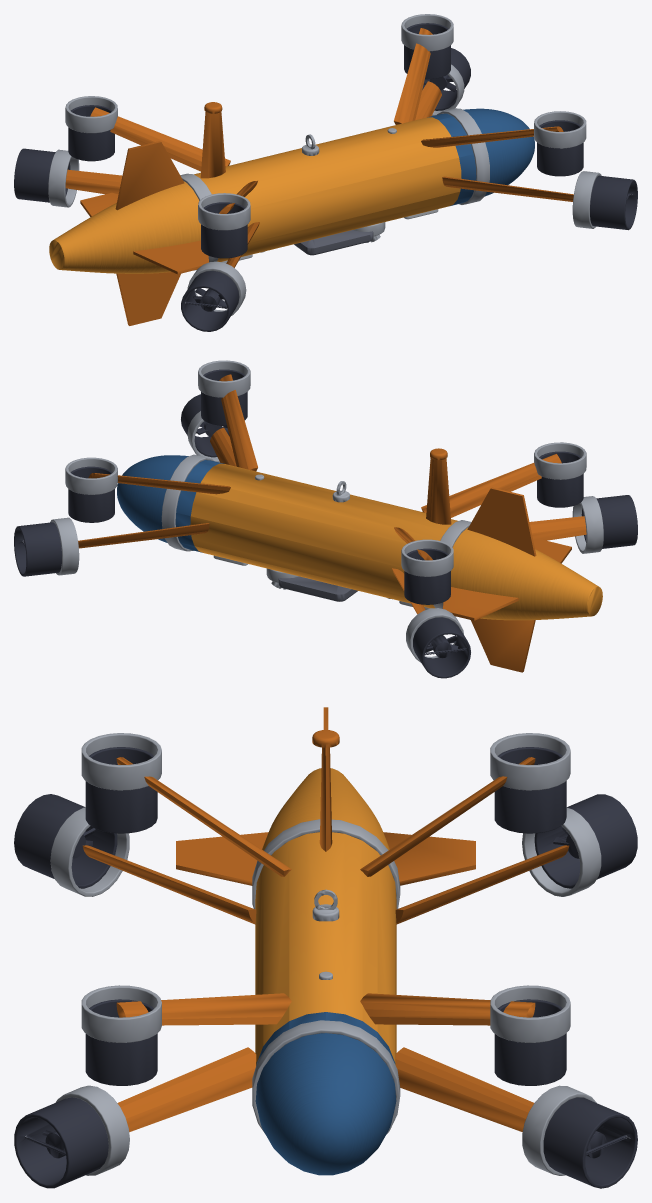
The model's file is isonavi-web.glb.
The picture shows the model from 3 angles, top to bottom: view 1: azimuth 30°, elevation 25°; view 2: azimuth 150°, elevation 25°; view 3: azimuth 270°, elevation 25°; orthographic projection. The views are drawn at different scales.
Visible parts, largest first — view 1: hull, accent, dark, metal, window, weight; view 2: hull, accent, dark, metal, window, weight; view 3: dark, accent, metal, hull, window.
Part boxes in pixels (x1,y1,x2,y2): hull: [49, 117, 461, 273]; accent: [65, 28, 573, 325]; dark: [14, 23, 637, 331]; metal: [48, 14, 601, 315]; window: [427, 108, 534, 206]; weight: [294, 230, 373, 255]; hull: [190, 463, 602, 620]; accent: [78, 374, 586, 672]; dark: [14, 369, 637, 678]; metal: [50, 360, 603, 662]; window: [117, 455, 224, 552]; weight: [278, 576, 357, 601]; dark: [14, 747, 637, 1188]; accent: [82, 707, 569, 1131]; metal: [50, 733, 601, 1175]; hull: [255, 768, 396, 1065]; window: [255, 1012, 396, 1175].
Size of the model in its own units: 2 by 0.7686 by 1.41.
